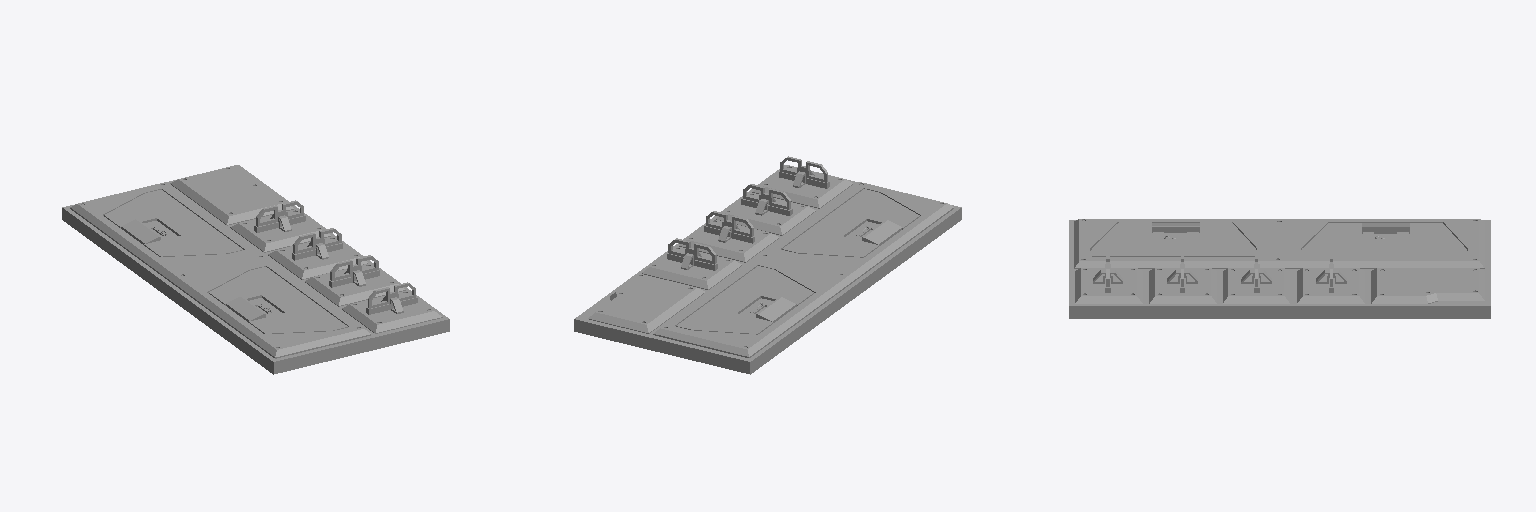
The model's file is s2_bottom_panel_1.obj.
The picture shows the model from 3 angles: view 1: azimuth 30°, elevation 25°; view 2: azimuth 150°, elevation 25°; view 3: azimuth 270°, elevation 25°; orthographic projection.
Visible parts, largest first — view 1: mesh_0, mesh_1; view 2: mesh_0, mesh_1; view 3: mesh_0, mesh_1.
Part boxes in pixels (bbox=[...]): mesh_0: bbox=[62, 165, 449, 374]; mesh_1: bbox=[81, 168, 430, 348]; mesh_0: bbox=[574, 165, 961, 374]; mesh_1: bbox=[598, 156, 943, 347]; mesh_0: bbox=[1069, 219, 1490, 318]; mesh_1: bbox=[1081, 219, 1477, 295].
Size of the model in its own units: 18.38 by 3.96 by 38.16.